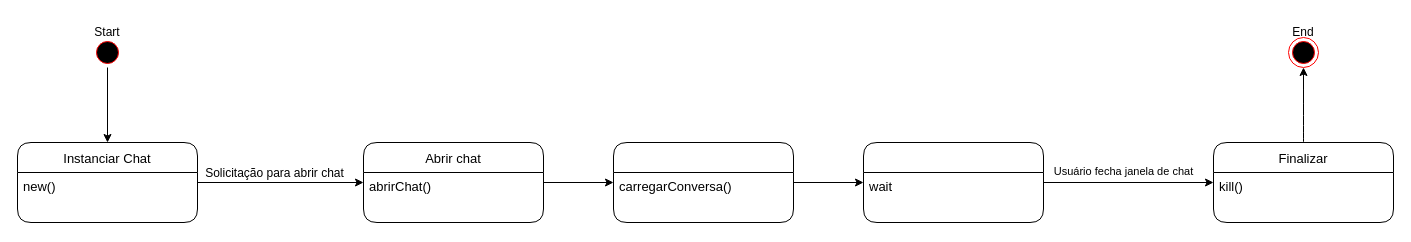
This 1411x242 diagram has some shape labels left out. The shapes that lost their labels are listed below. From the top down, each one's box as (x1, y1, x2, y2) in pixels, then its label:
(612, 142, 794, 222): Carregando mensagens
(862, 142, 1044, 222): Tela de chat aberta
